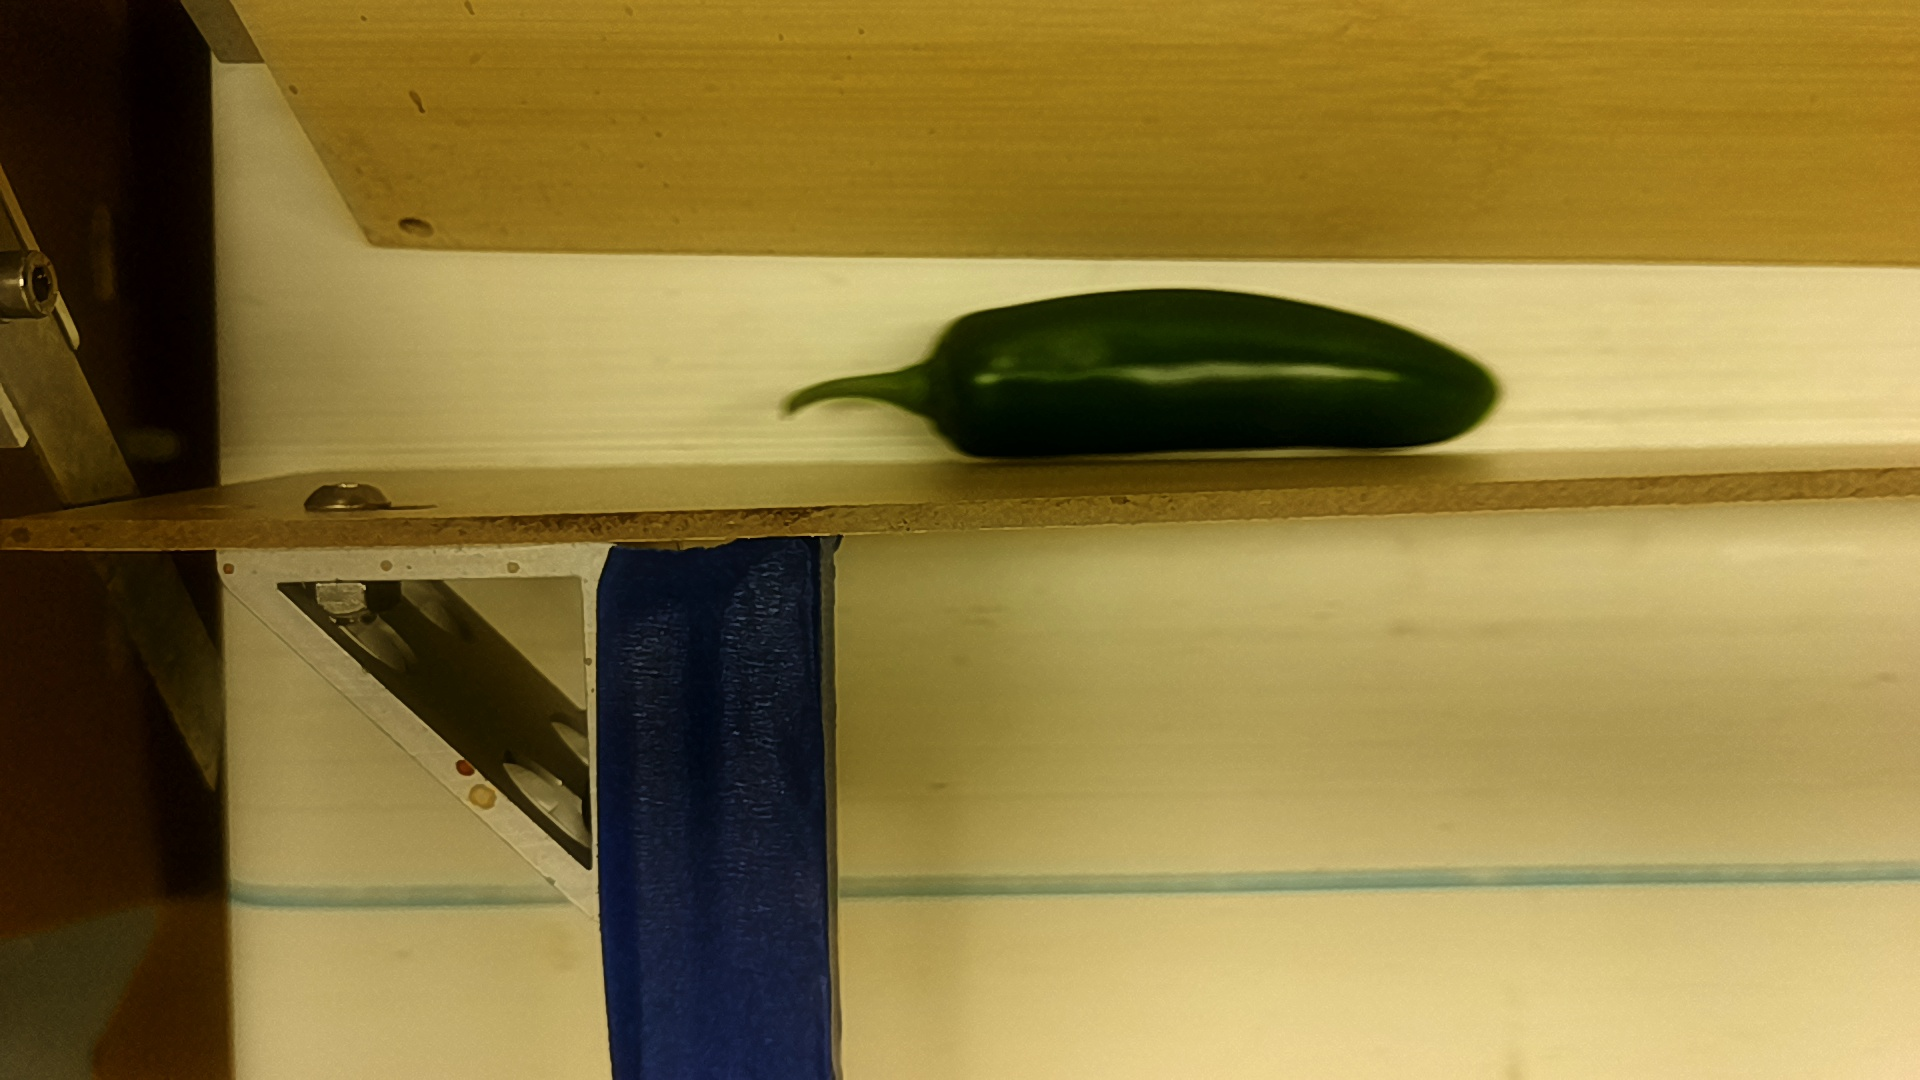Cut Point: (910, 303, 985, 468)
